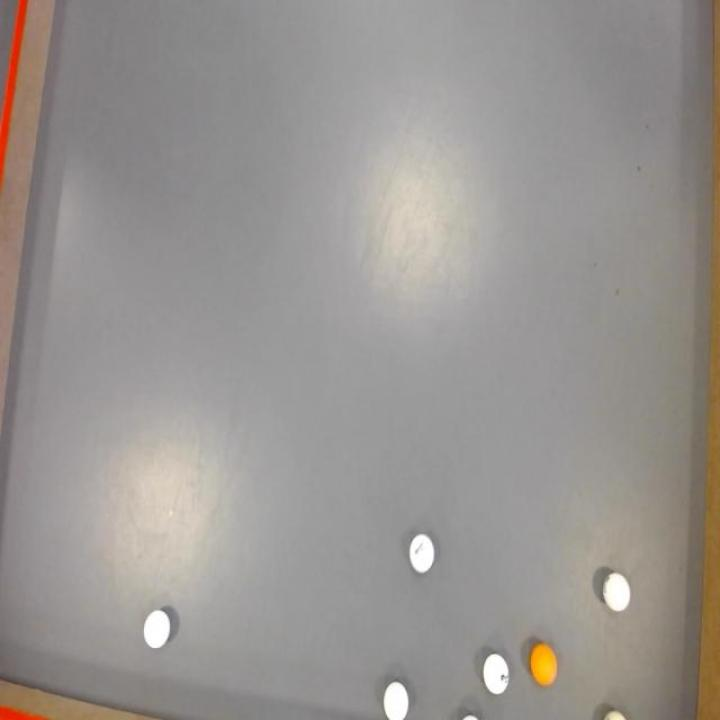orange: (529, 640, 560, 688)
white: (480, 644, 514, 698), (600, 568, 635, 619), (408, 532, 437, 575), (144, 610, 172, 651), (382, 679, 409, 720)
